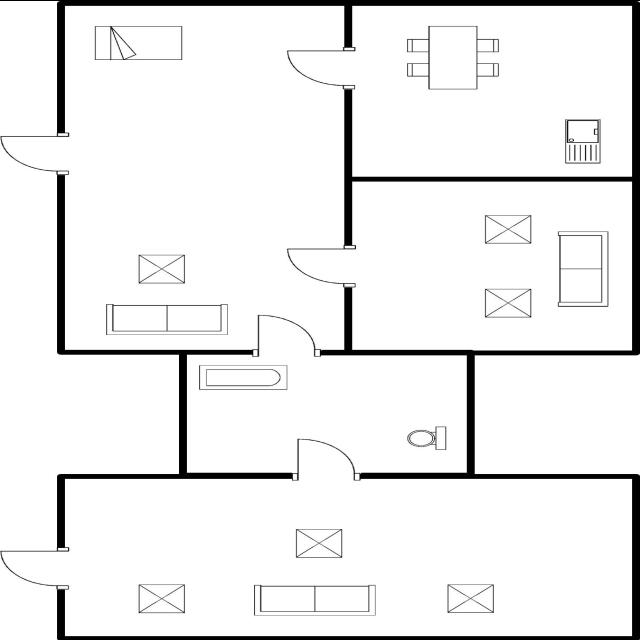bed: (90, 22, 188, 64)
coffee_table: (130, 251, 192, 287), (290, 524, 350, 560), (132, 580, 190, 616), (440, 581, 498, 617), (476, 286, 536, 320), (479, 212, 538, 246)
dining_table: (399, 22, 508, 96)
large_sink: (400, 422, 454, 454)
large_sofa: (243, 580, 385, 620), (553, 224, 613, 310), (100, 299, 233, 337)
sink: (558, 115, 605, 165)
tub: (192, 360, 294, 392)
